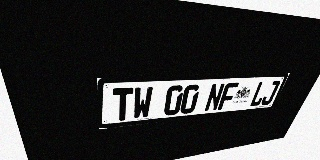0: (179, 84, 201, 114), (163, 85, 184, 116)
F: (217, 82, 239, 110)
J: (260, 80, 281, 106)
L: (248, 81, 270, 107)
N: (204, 83, 225, 112)
T: (113, 87, 133, 121)
W: (132, 86, 153, 119)
